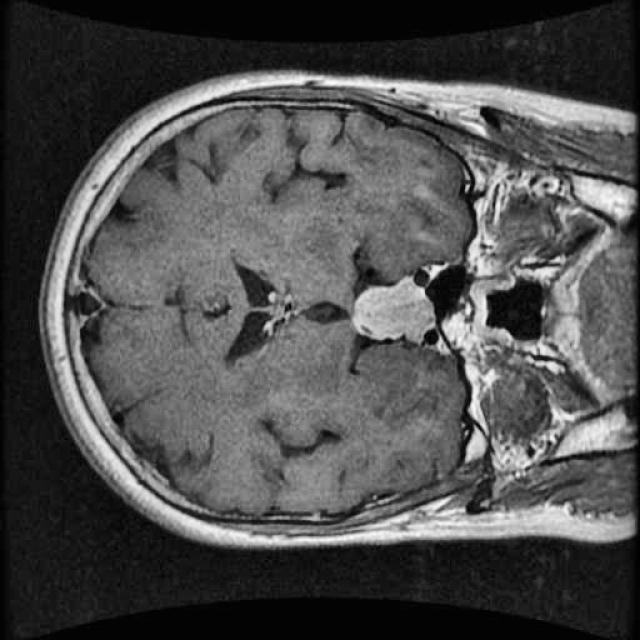Tumor: (348, 271, 441, 352)
